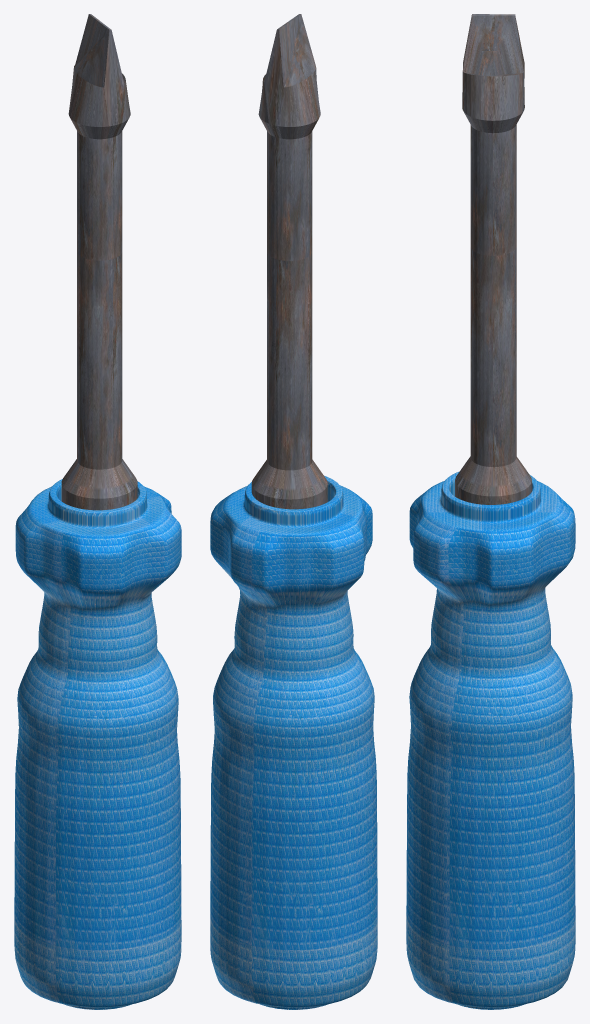
File: Chave_2.fbx
The picture shows the model from 3 angles, left to right: view 1: azimuth 30°, elevation 25°; view 2: azimuth 150°, elevation 25°; view 3: azimuth 270°, elevation 25°; orthographic projection.
Parts seen in each view (by area): view 1: Cylinder.008, Cylinder.015; view 2: Cylinder.008, Cylinder.015; view 3: Cylinder.008, Cylinder.015.
Part boxes in pixels (bbox=[...]): Cylinder.008: bbox=[14, 479, 181, 1009]; Cylinder.015: bbox=[61, 14, 137, 510]; Cylinder.008: bbox=[210, 475, 377, 1009]; Cylinder.015: bbox=[251, 14, 327, 509]; Cylinder.008: bbox=[406, 472, 575, 1009]; Cylinder.015: bbox=[455, 14, 531, 504].
Bounding box in the file's own units: 189 × 1192 × 187.
2 materials, 2 textured.
